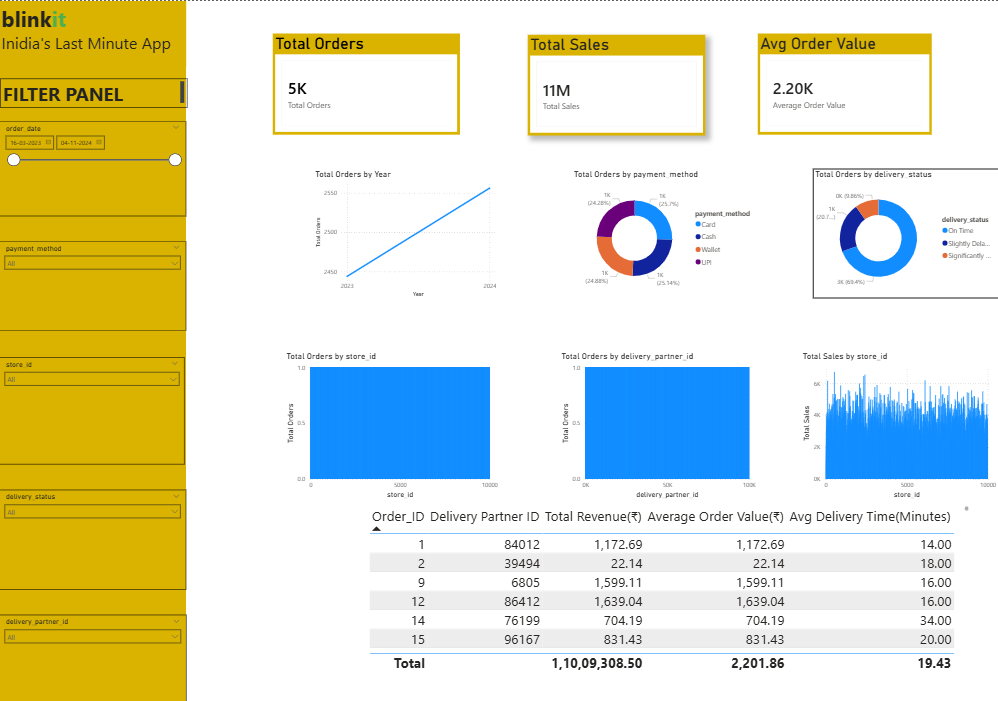

The dashboard page shown, as its layout file describes it:
{"tool":"powerbi","page":{"name":"Page 1","canvas":[2000,1400],"ordinal":0},"visuals":[{"type":"cardVisual","title":"Total Sales","fields":{"Data":["blinkit_orders.Total Sales"]},"box":[1056.7,66.7,355,201.7],"z":1000},{"type":"shape","title":"Blinkit Orders & Delivery Analysis Dashboard","box":[0,1.4,374.3,1448.6],"z":2000},{"type":"lineChart","fields":{"Category":["blinkit_orders.order_date.Variation.Date Hierarchy.Year","blinkit_orders.order_date.Variation.Date Hierarchy.Quarter","blinkit_orders.order_date.Variation.Date Hierarchy.Month","blinkit_orders.order_date.Variation.Date Hierarchy.Day"],"Y":["blinkit_orders.Total Orders"]},"box":[628,334,372,262],"z":3000},{"type":"donutChart","fields":{"Category":["blinkit_orders.payment_method"],"Y":["blinkit_orders.Total Orders"]},"box":[1146,336,372,260],"z":4000},{"type":"donutChart","fields":{"Category":["blinkit_orders.delivery_status"],"Y":["blinkit_orders.Total Orders"]},"box":[1628,336,372,260],"z":5000},{"type":"clusteredColumnChart","fields":{"Category":["blinkit_orders.store_id"],"Y":["blinkit_orders.Total Orders"]},"box":[570,700,434,300],"z":6000},{"type":"clusteredColumnChart","fields":{"Category":["blinkit_orders.delivery_partner_id"],"Y":["blinkit_orders.Total Orders"]},"box":[1120,700,400,300],"z":7000},{"type":"clusteredColumnChart","fields":{"Category":["blinkit_orders.store_id"],"Y":["blinkit_orders.Total Sales"]},"box":[1602,700,398,300],"z":8000},{"type":"tableEx","fields":{"Values":["select","blinkit_orders.store_id","blinkit_orders.delivery_partner_id","Sum(blinkit_orders.order_total)","Avg(blinkit_orders.order_total)","Avg(blinkit_orders.Delivery Time)"]},"box":[736,1006,1210,342],"z":9000},{"type":"textbox","box":[0,0,374,132],"z":10000},{"type":"textbox","box":[2,154,374,58],"z":11000},{"type":"slicer","fields":{"Values":["blinkit_orders.payment_method"]},"box":[0,480.7,374.3,180],"z":12000},{"type":"slicer","fields":{"Values":["blinkit_orders.order_date"]},"box":[0,240,374,190],"z":13000},{"type":"slicer","fields":{"Values":["blinkit_orders.store_id"]},"box":[0,711.4,371.4,214.3],"z":14000},{"type":"slicer","fields":{"Values":["blinkit_orders.delivery_status"]},"box":[0,976.4,374.3,200],"z":15000},{"type":"slicer","fields":{"Values":["blinkit_orders.delivery_partner_id"]},"box":[0,1226.7,375,203.3],"z":16000},{"type":"cardVisual","title":"Total Orders","fields":{"Data":["blinkit_orders.Total Orders"]},"box":[548,66,374,202],"z":17000},{"type":"cardVisual","title":"Avg Order Value","fields":{"Data":["blinkit_orders.Avg Order Value"]},"box":[1518,66,348,202],"z":18000}]}

Visuals, with their boxes in screenshot pixels (x1, y1, x2, y2), scaled from the page's 2000x1400 canvas onto the 998x701 screenshot:
"Total Sales" cardVisual: x1=527, y1=33, x2=704, y2=134
"Blinkit Orders & Delivery Analysis Dashboard" shape: x1=0, y1=1, x2=187, y2=700
lineChart - blinkit_orders.order_date.Variation.Date Hierarchy.Year x blinkit_orders.order_date.Variation.Date Hierarchy.Quarter: x1=313, y1=167, x2=499, y2=298
donutChart - blinkit_orders.payment_method x blinkit_orders.Total Orders: x1=572, y1=168, x2=757, y2=298
donutChart - blinkit_orders.delivery_status x blinkit_orders.Total Orders: x1=812, y1=168, x2=997, y2=298
clusteredColumnChart - blinkit_orders.store_id x blinkit_orders.Total Orders: x1=284, y1=350, x2=501, y2=501
clusteredColumnChart - blinkit_orders.delivery_partner_id x blinkit_orders.Total Orders: x1=559, y1=350, x2=758, y2=501
clusteredColumnChart - blinkit_orders.store_id x blinkit_orders.Total Sales: x1=799, y1=350, x2=997, y2=501
tableEx - select x blinkit_orders.store_id: x1=367, y1=504, x2=971, y2=675
textbox: x1=0, y1=0, x2=187, y2=66
textbox: x1=1, y1=77, x2=188, y2=106
slicer - blinkit_orders.payment_method: x1=0, y1=241, x2=187, y2=331
slicer - blinkit_orders.order_date: x1=0, y1=120, x2=187, y2=215
slicer - blinkit_orders.store_id: x1=0, y1=356, x2=185, y2=464
slicer - blinkit_orders.delivery_status: x1=0, y1=489, x2=187, y2=589
slicer - blinkit_orders.delivery_partner_id: x1=0, y1=614, x2=187, y2=700
"Total Orders" cardVisual: x1=273, y1=33, x2=460, y2=134
"Avg Order Value" cardVisual: x1=757, y1=33, x2=931, y2=134
